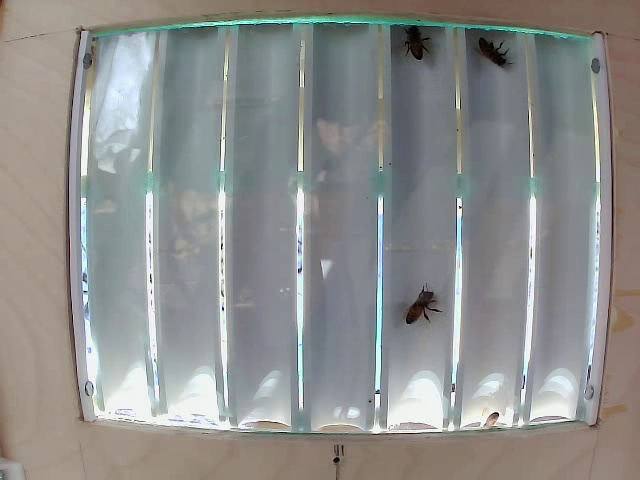bee: (400, 274, 451, 349), (400, 10, 436, 61), (478, 26, 502, 67)
